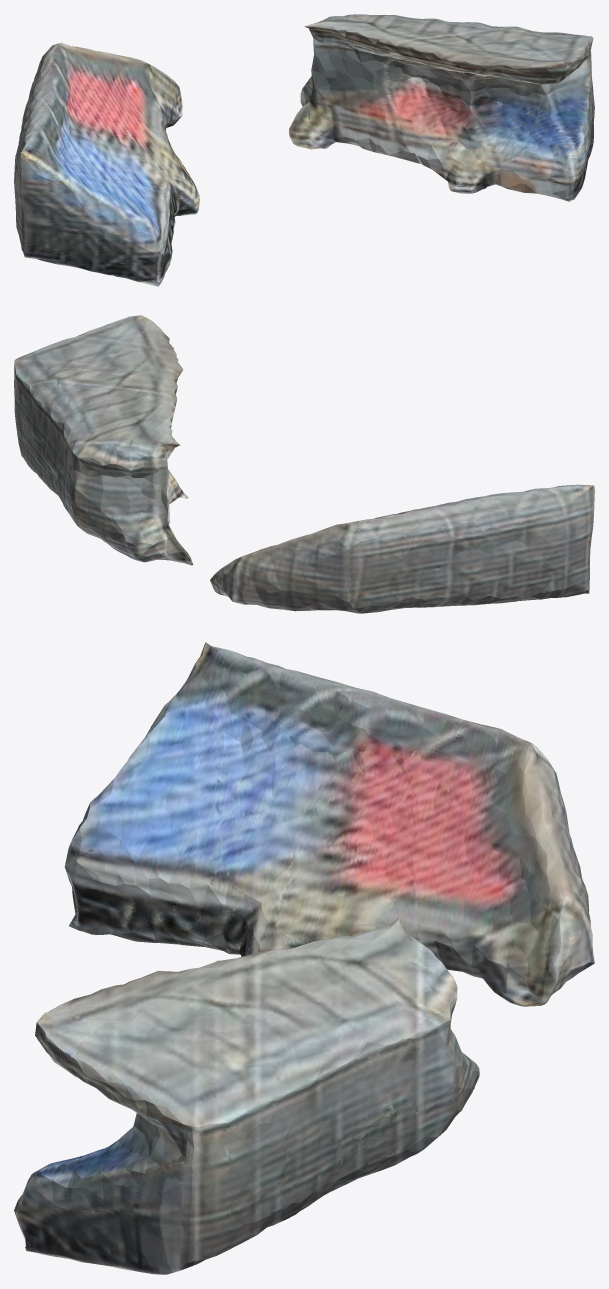
File: grandstand_modular.glb
The picture shows the model from 3 angles, top to bottom: view 1: azimuth 30°, elevation 25°; view 2: azimuth 150°, elevation 25°; view 3: azimuth 270°, elevation 25°; orthographic projection. The views are drawn at different scales.
Visible parts, largest first — view 1: geometry_0; view 2: geometry_0; view 3: geometry_0.
Part boxes in pixels (x1,y1,x2,y2): geometry_0: [14, 14, 594, 286]; geometry_0: [14, 315, 594, 613]; geometry_0: [14, 642, 594, 1274].
Bounding box in the file's own units: 0.9595 × 0.2211 × 0.5199.
Materials: 1 (1 with a texture image).
